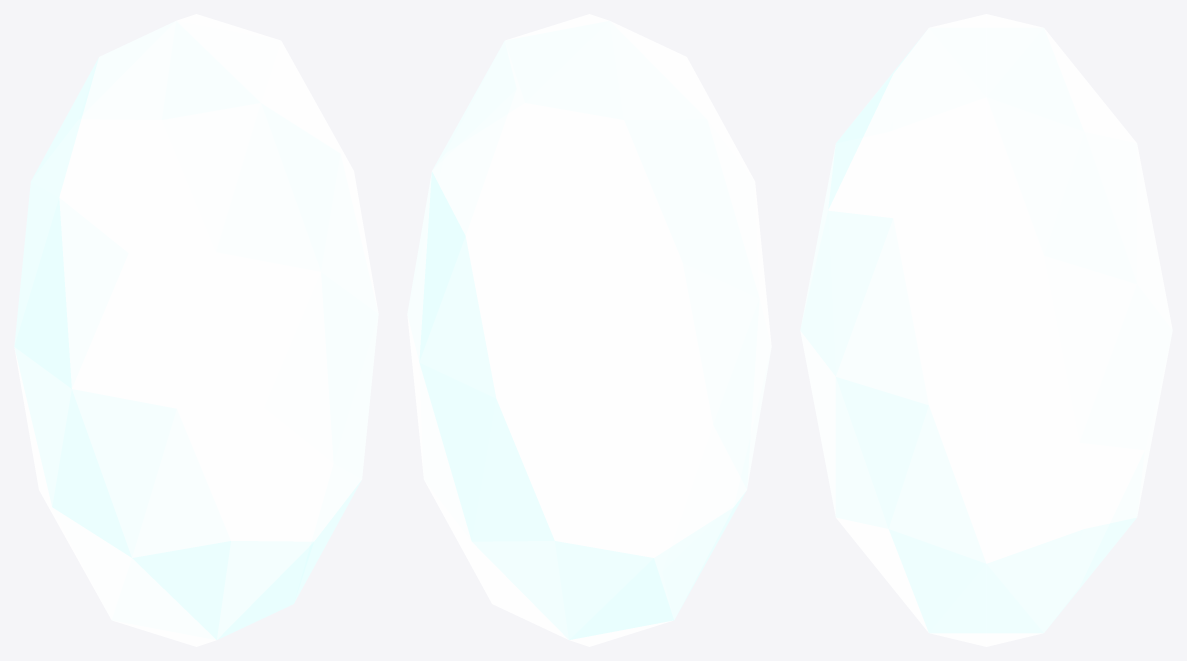
The model's file is mystical_temple_crystal.glb.
3 views of the same model, side by side, from view 1: azimuth 30°, elevation 25°; view 2: azimuth 150°, elevation 25°; view 3: azimuth 270°, elevation 25° (orthographic).
Parts seen in each view (by area): view 1: mystical_temple_crystal.001; view 2: mystical_temple_crystal.001; view 3: mystical_temple_crystal.001.
Part boxes in pixels (bbox=[...]): mystical_temple_crystal.001: bbox=[14, 14, 378, 646]; mystical_temple_crystal.001: bbox=[407, 14, 771, 646]; mystical_temple_crystal.001: bbox=[800, 14, 1172, 646].
Bounding box in the file's own units: 1.52 × 3 × 1.6.
